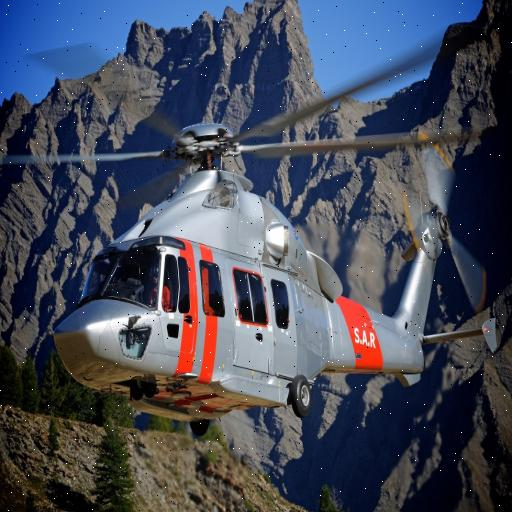helicopter: (1, 28, 512, 429)
